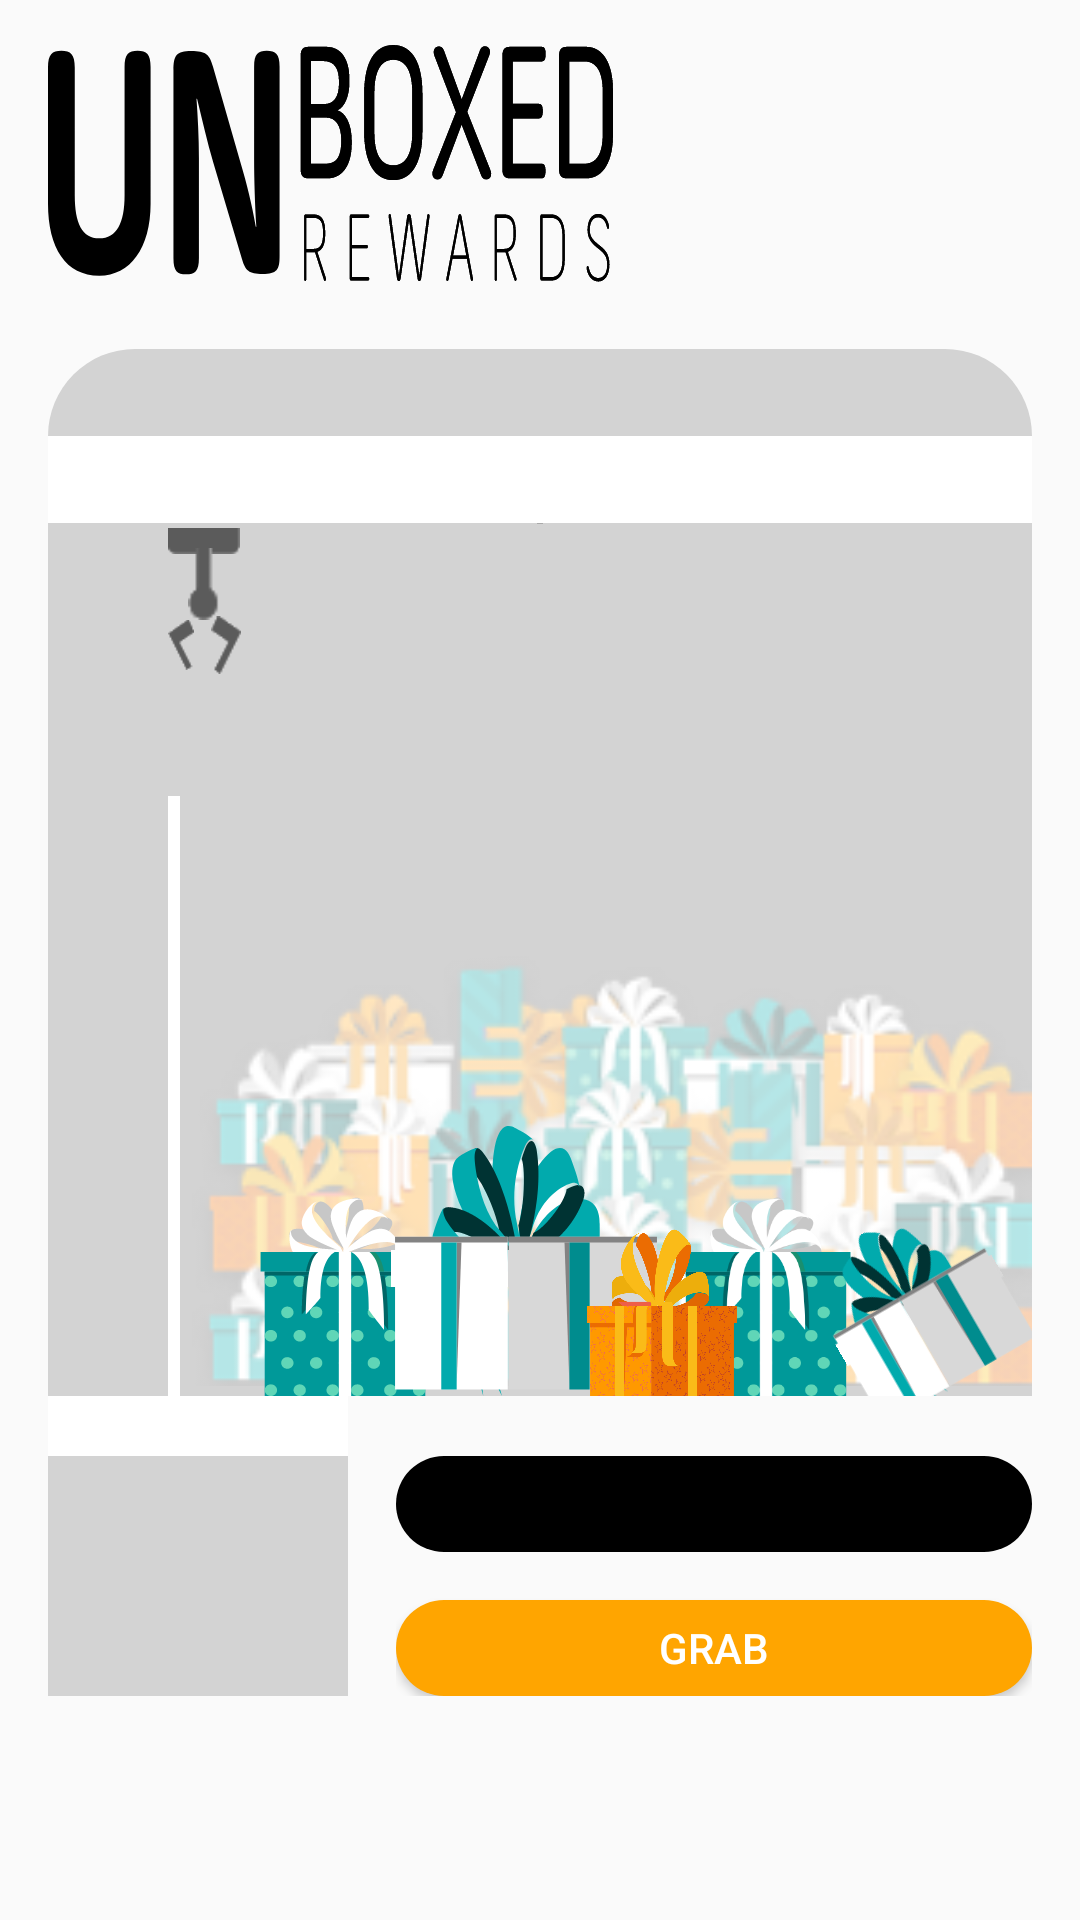

Icon click points for this 1080 × 1920 phone screenshot, format [x,y]:
claw head: [204,541]
claw neck: [204,584]
left claw: [181,645]
right claw: [226,645]
